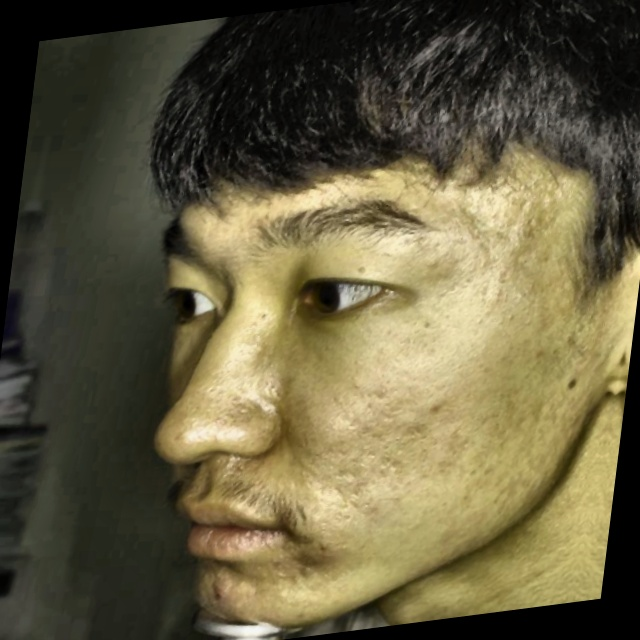comedone: (198, 569, 243, 609)
